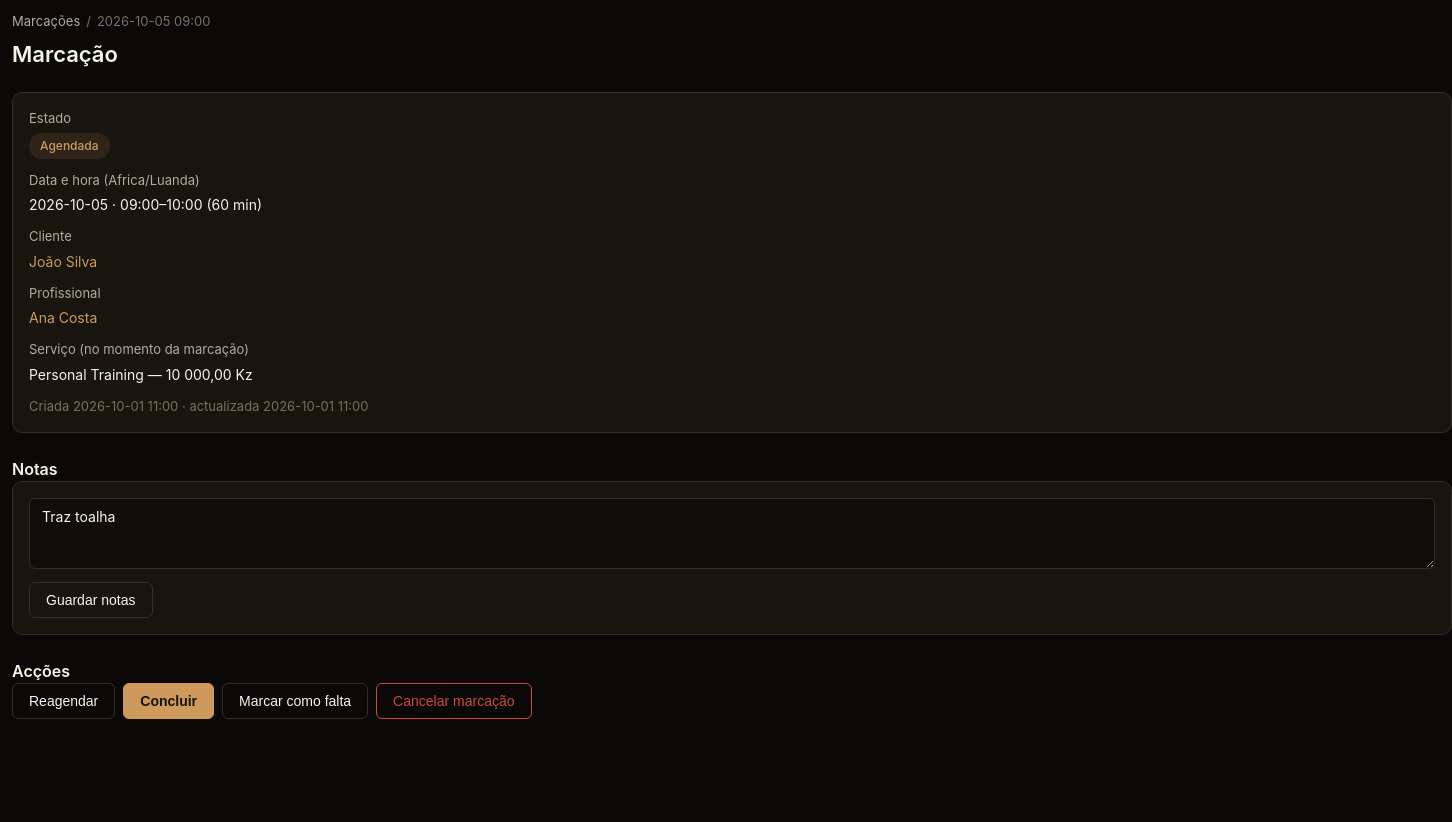
it: Appointment detail › complete: success renders COMPLETED; too-early is explained (the server decides, not the browser clock)
Step 1. Click the button "Concluir" → click(169, 701), box [123,683,214,719]
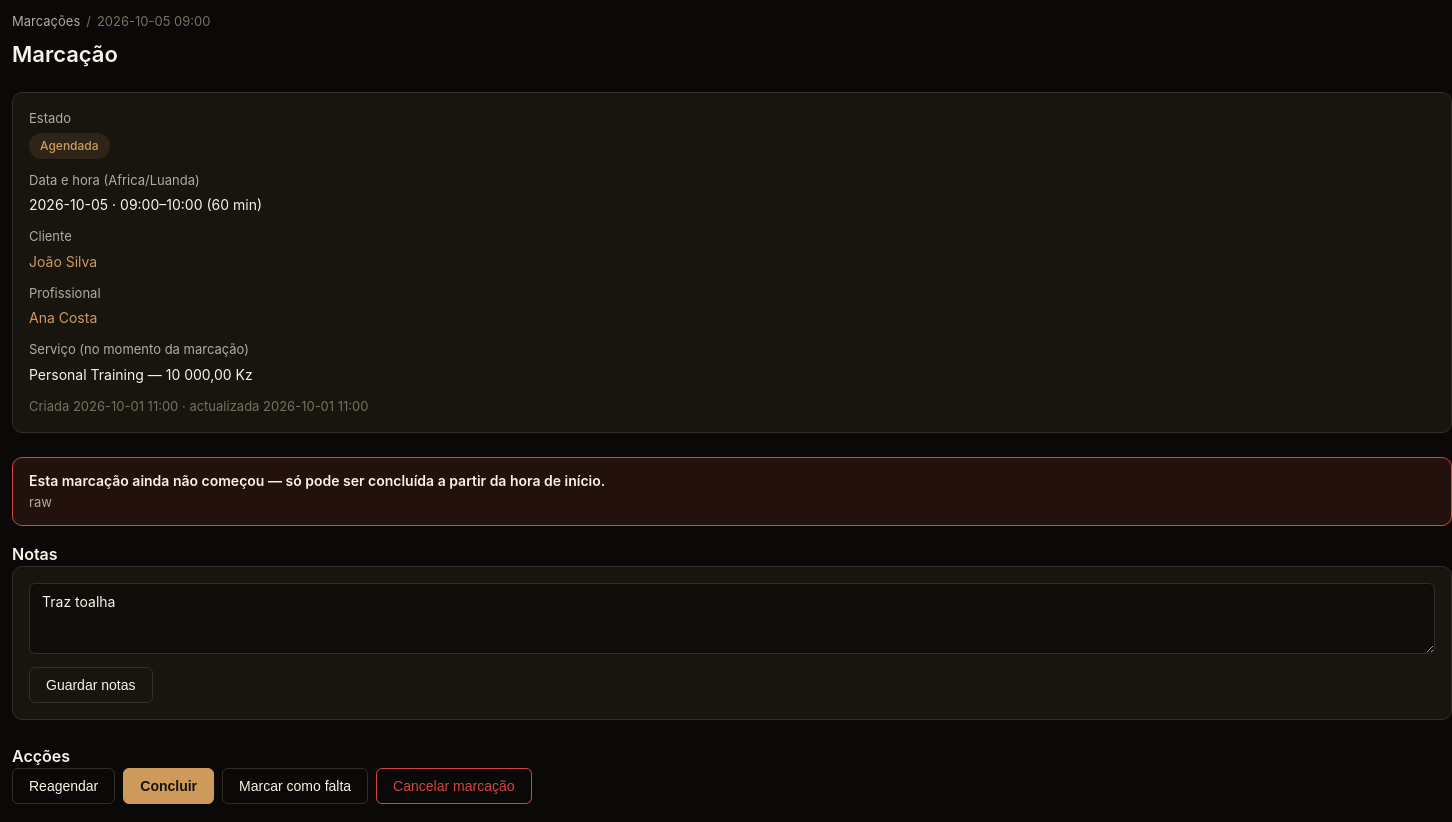
Expected: the text "Agendada" is shown, [29,133,110,159]
Expected: the text "ainda não começou" is shown, [29,472,605,489]
Step 2. Click the button "Concluir" → click(169, 786), box [123,768,214,804]
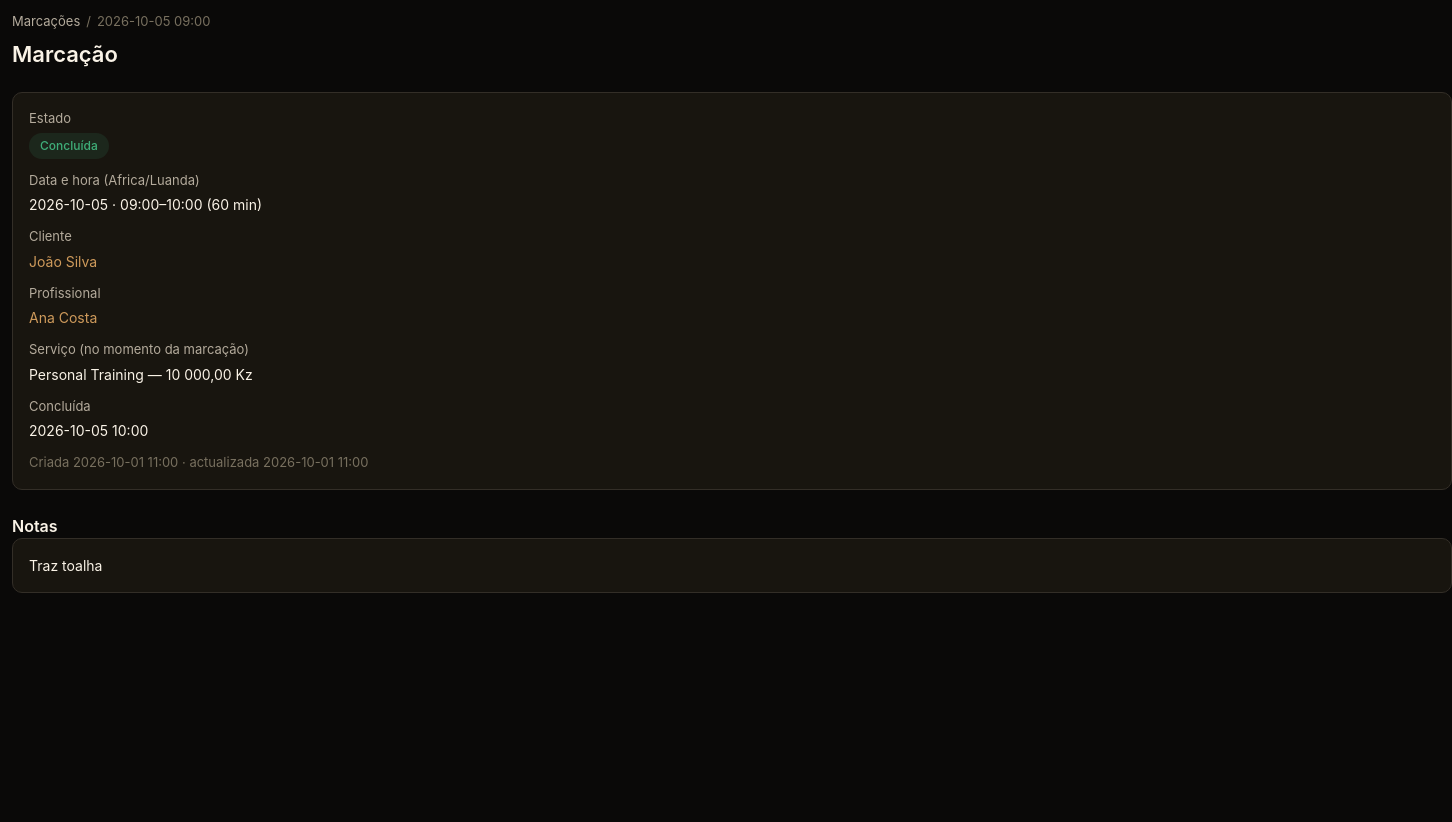
Expected: the text "Concluída" is shown, [29,133,109,159]
